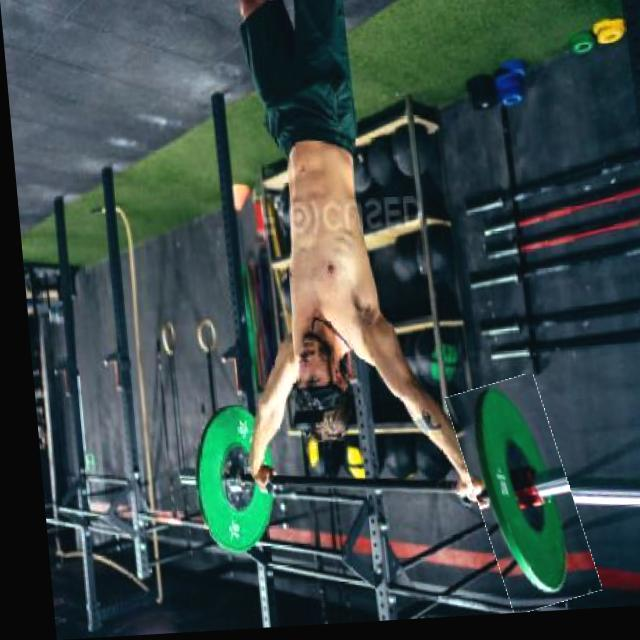barbell: (448, 382, 581, 620)
